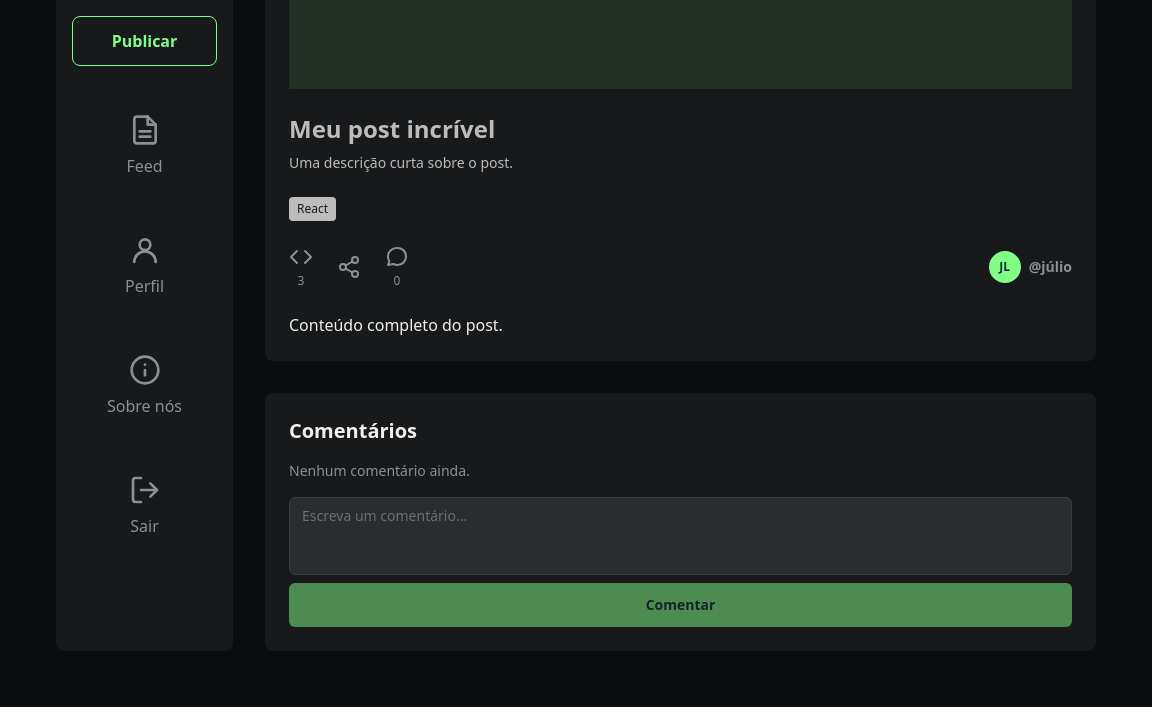
PostDetailPage › lets authenticated users add a comment
(page scrolled)
Expected: the heading "Meu post incrível" is shown, [289, 112, 495, 145]
Type "Muito bom!" into the text box labelled "Escreva um comentário".
click(680, 536); type("Muito bom!")  # box [289, 497, 1072, 575]
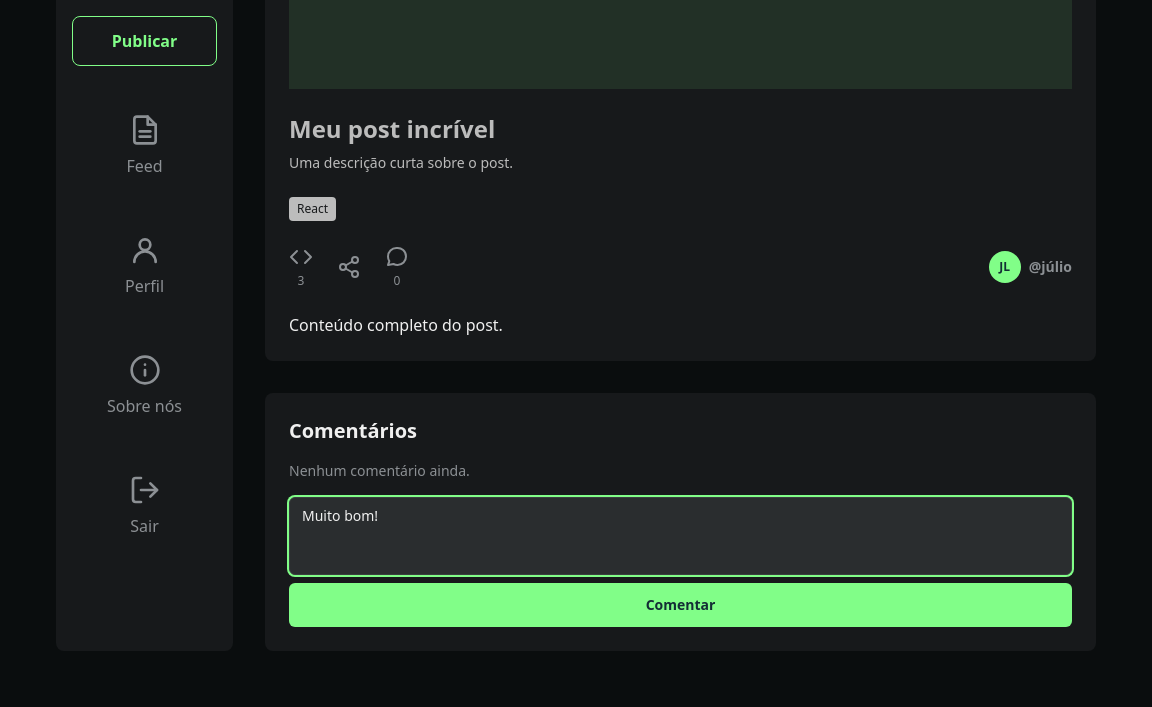
Click the button "Comentar".
click(680, 605)  # box [289, 583, 1072, 627]
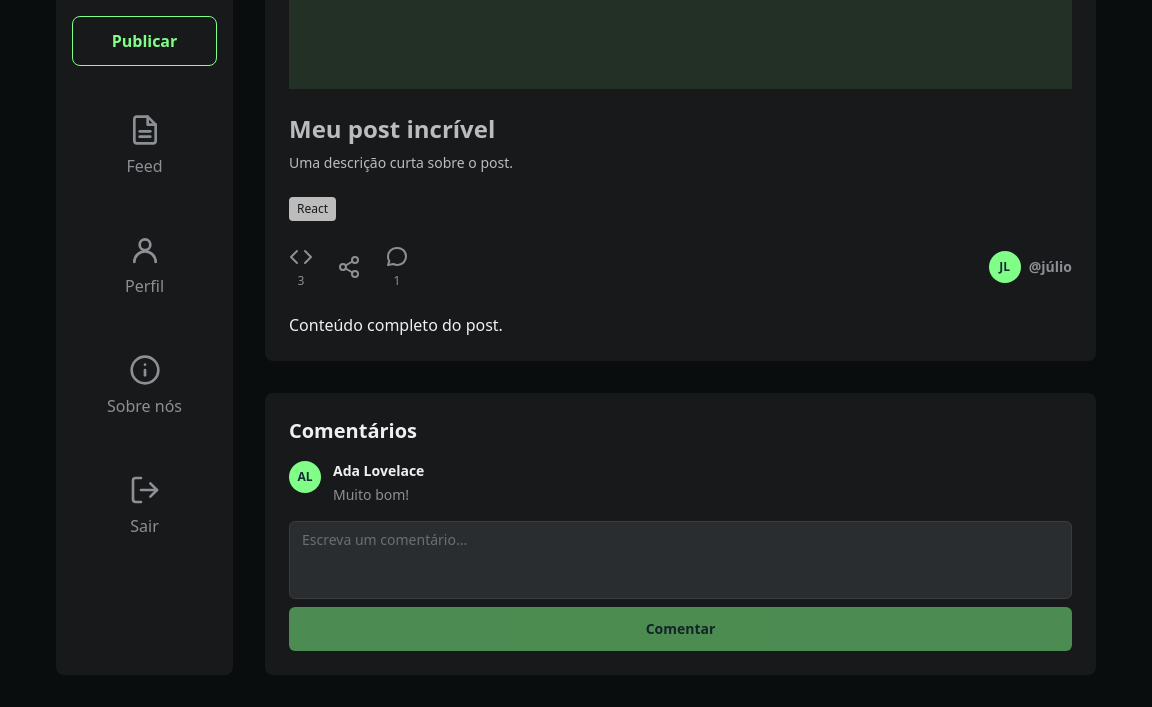
Result: the text "Muito bom!" is shown at [333, 485, 409, 504]
Result: the text "Ada Lovelace" is shown at [333, 461, 424, 481]
